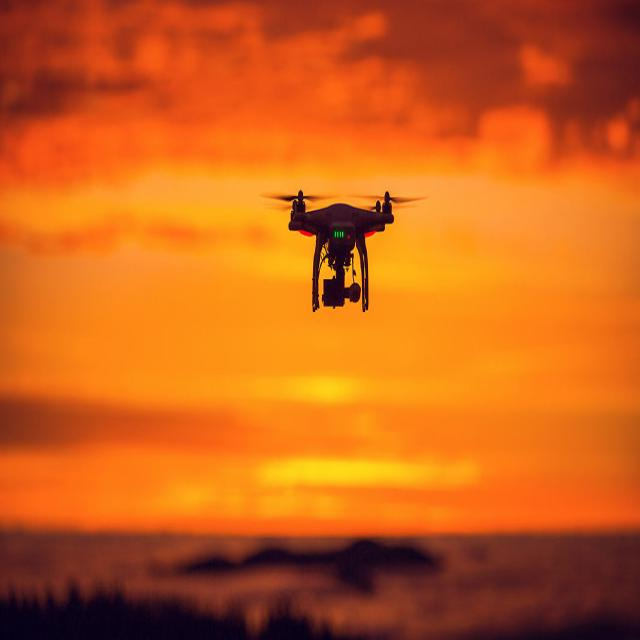drone: (257, 185, 431, 315)
